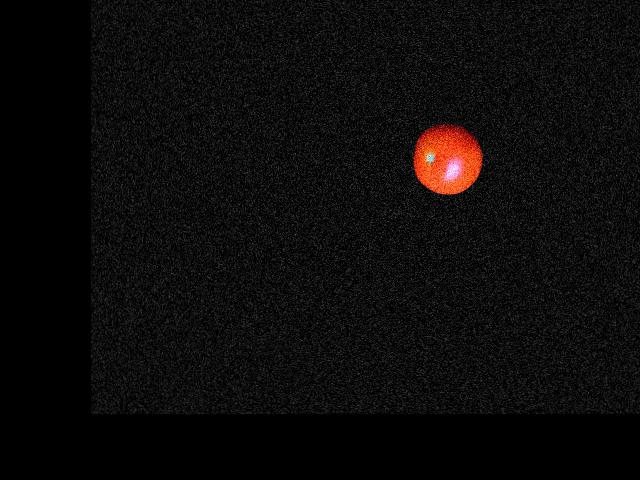tomato: (413, 123, 482, 194)
